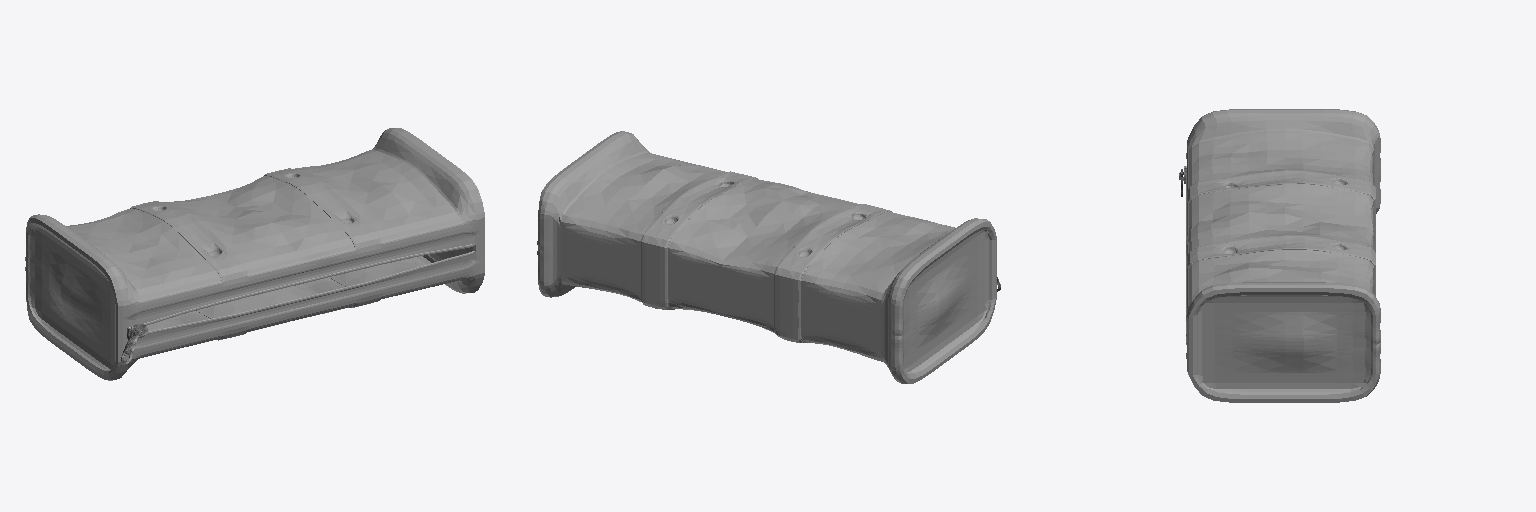
3 renders of one model, left to right at view 1: azimuth 30°, elevation 25°; view 2: azimuth 150°, elevation 25°; view 3: azimuth 270°, elevation 25°, orthographic.
Visible parts, largest first — view 1: pcase; view 2: pcase; view 3: pcase.
Boxes of the visible parts, box(x1,y1,x2,y2) form: pcase: box(25, 128, 484, 380); pcase: box(537, 131, 1000, 383); pcase: box(1179, 109, 1380, 402).
Bounding box in the file's own units: 4.37 × 1.33 × 2.07.
Materials: 2 (1 with a texture image).